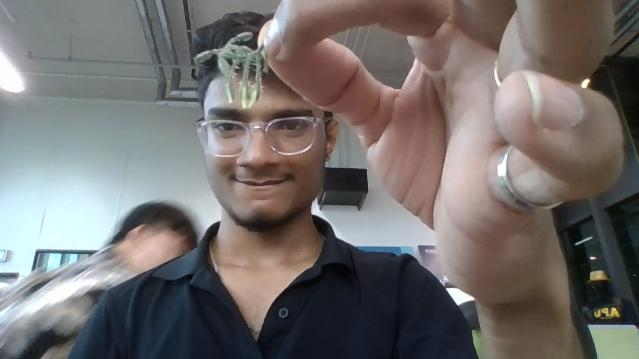Flower Bud: (236, 56, 258, 110), (225, 31, 255, 51), (217, 53, 234, 79), (192, 49, 217, 66), (248, 82, 260, 108), (239, 81, 250, 109), (225, 81, 233, 105)
